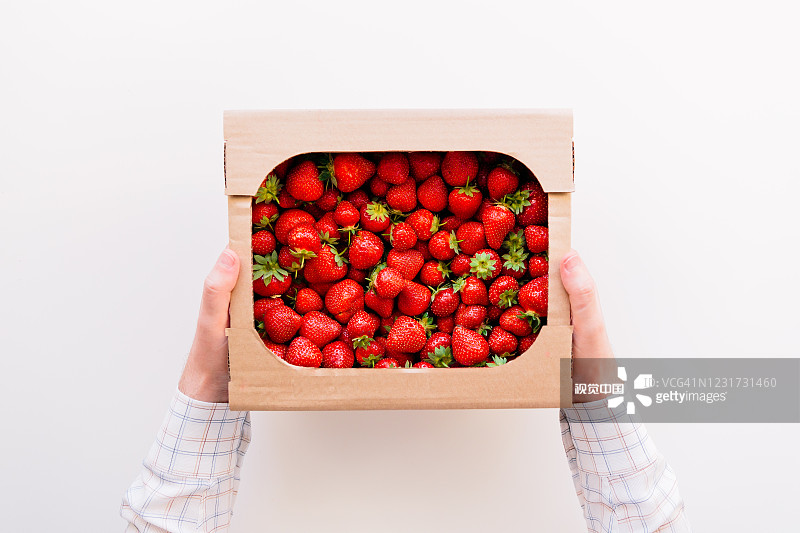no-phone: (170, 212, 290, 418), (535, 207, 626, 420)
